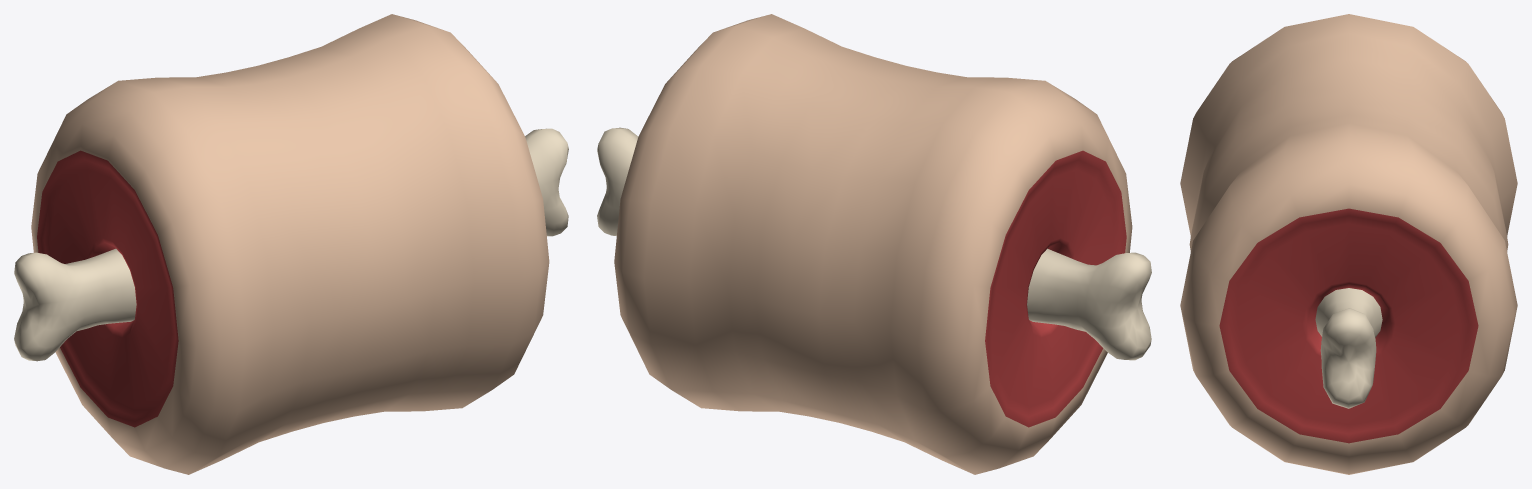
Rendered from ASFTR_RawHumanMeat.fbx.
3 renders of one model, left to right at view 1: azimuth 30°, elevation 25°; view 2: azimuth 150°, elevation 25°; view 3: azimuth 270°, elevation 25°, orthographic. The views are drawn at different scales.
Visible parts, largest first — view 1: ASFTR_RawHumanMeat; view 2: ASFTR_RawHumanMeat; view 3: ASFTR_RawHumanMeat.
Part boxes in pixels (x1,y1,x2,y2): ASFTR_RawHumanMeat: (14, 14, 568, 474); ASFTR_RawHumanMeat: (597, 14, 1151, 474); ASFTR_RawHumanMeat: (1180, 14, 1517, 474).
Size of the model in its own units: 90.81 by 58.93 by 53.19.
